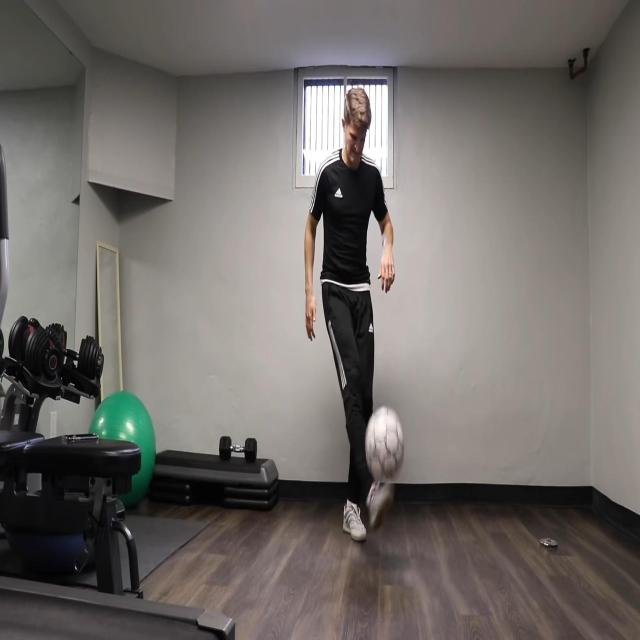Soccer Ball: (365, 405, 404, 483)
